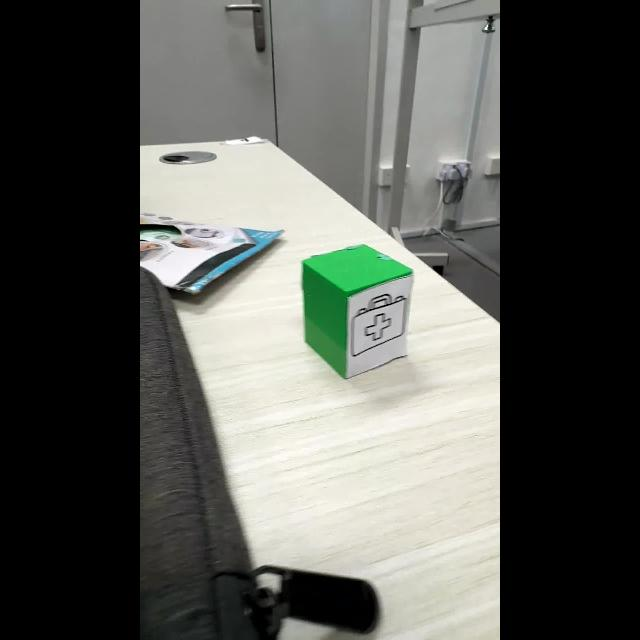Medkit: (351, 288, 407, 357), (357, 320, 359, 382)
